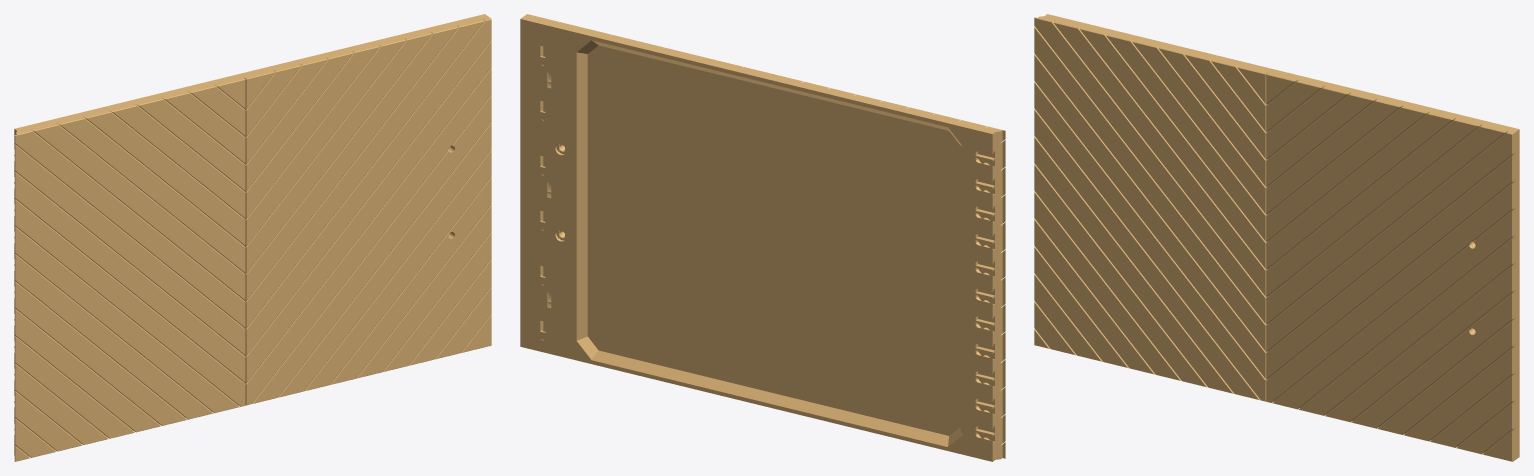
File: Door_Chevron_3W-3H.lib.glb
3 views of the same model, side by side, from view 1: azimuth 30°, elevation 25°; view 2: azimuth 150°, elevation 25°; view 3: azimuth 330°, elevation 25° (orthographic).
Visible parts, largest first — view 1: Door_Chevron_3W-3H; view 2: Door_Chevron_3W-3H; view 3: Door_Chevron_3W-3H.
Boxes of the visible parts, box(x1,y1,x2,y2) form: Door_Chevron_3W-3H: box(14, 14, 491, 461); Door_Chevron_3W-3H: box(520, 14, 1005, 461); Door_Chevron_3W-3H: box(1034, 14, 1519, 461).
Size of the model in its own units: 255 by 167 by 6.51.
